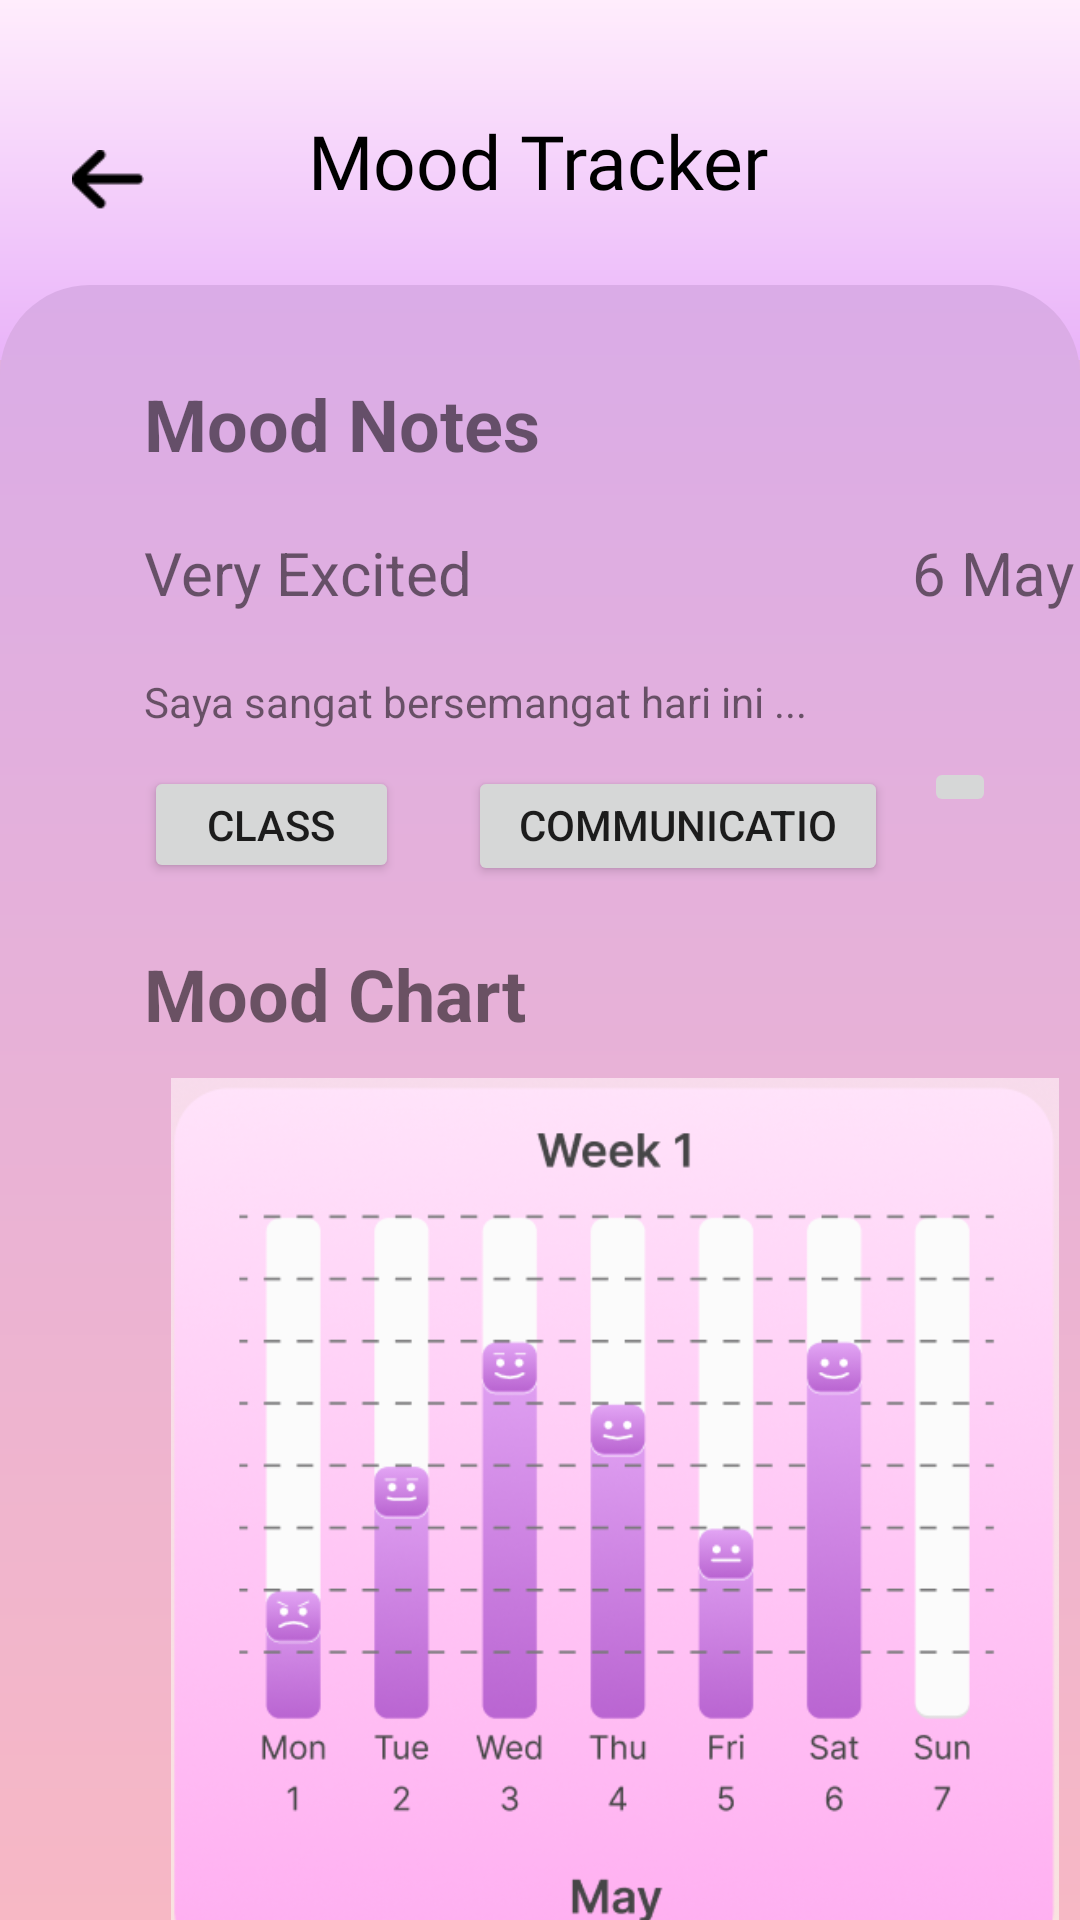

Screen size 1080 x 1920. Icon name, then its center in pixels as (x,y):
back: (108,179)
